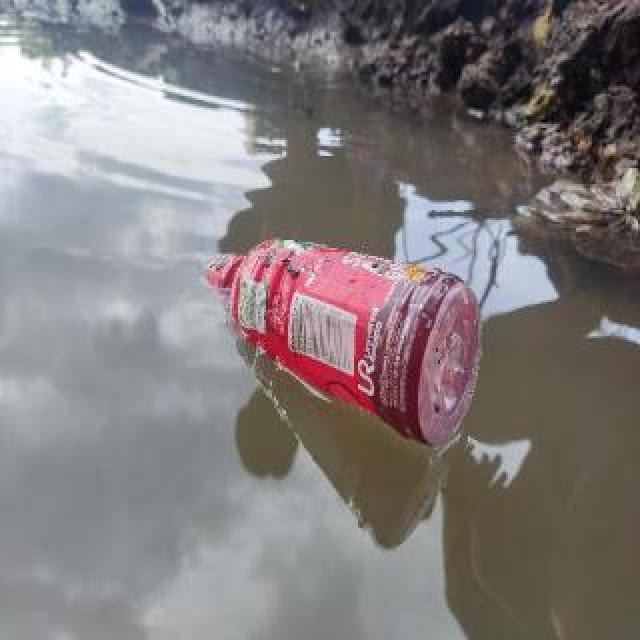Bottle: (196, 230, 489, 458)
